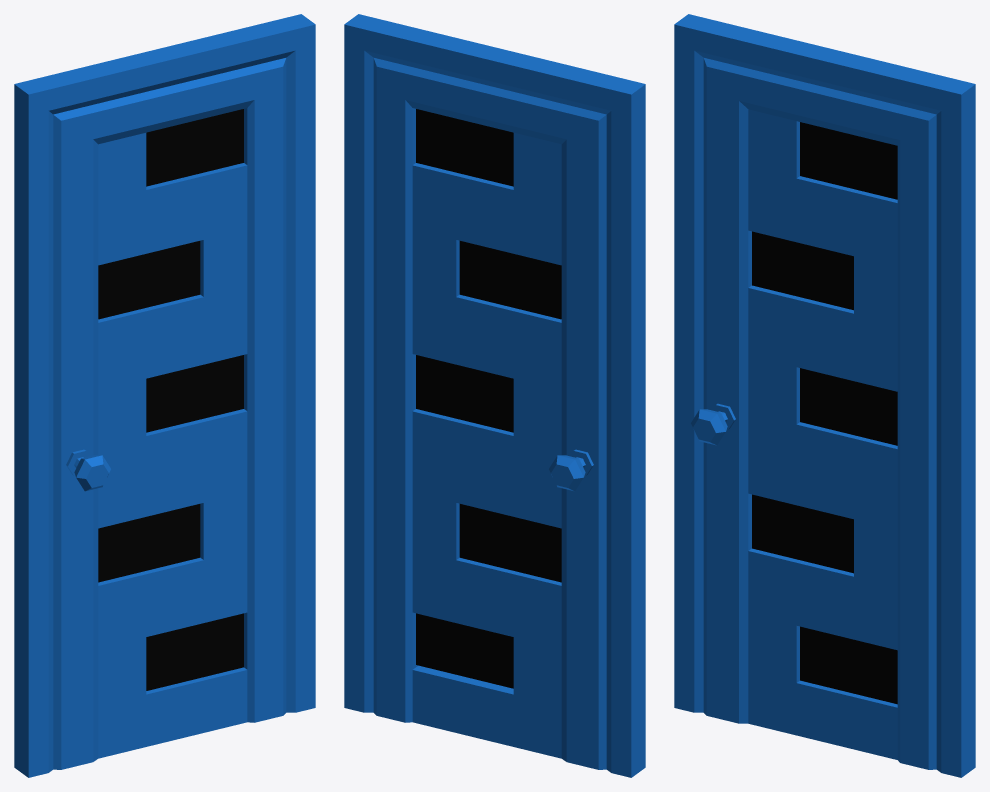
The model's file is space_door.fbx.
3 renders of one model, left to right at view 1: azimuth 30°, elevation 25°; view 2: azimuth 150°, elevation 25°; view 3: azimuth 330°, elevation 25°, orthographic.
Parts seen in each view (by area): view 1: Symmetry_54; view 2: Symmetry_54; view 3: Symmetry_54.
Part boxes in pixels (<box>): Symmetry_54: <box>14,14,315,777</box>; Symmetry_54: <box>344,14,645,777</box>; Symmetry_54: <box>674,14,975,777</box>.
Bounding box in the file's own units: 92.39 × 210 × 29.6.
